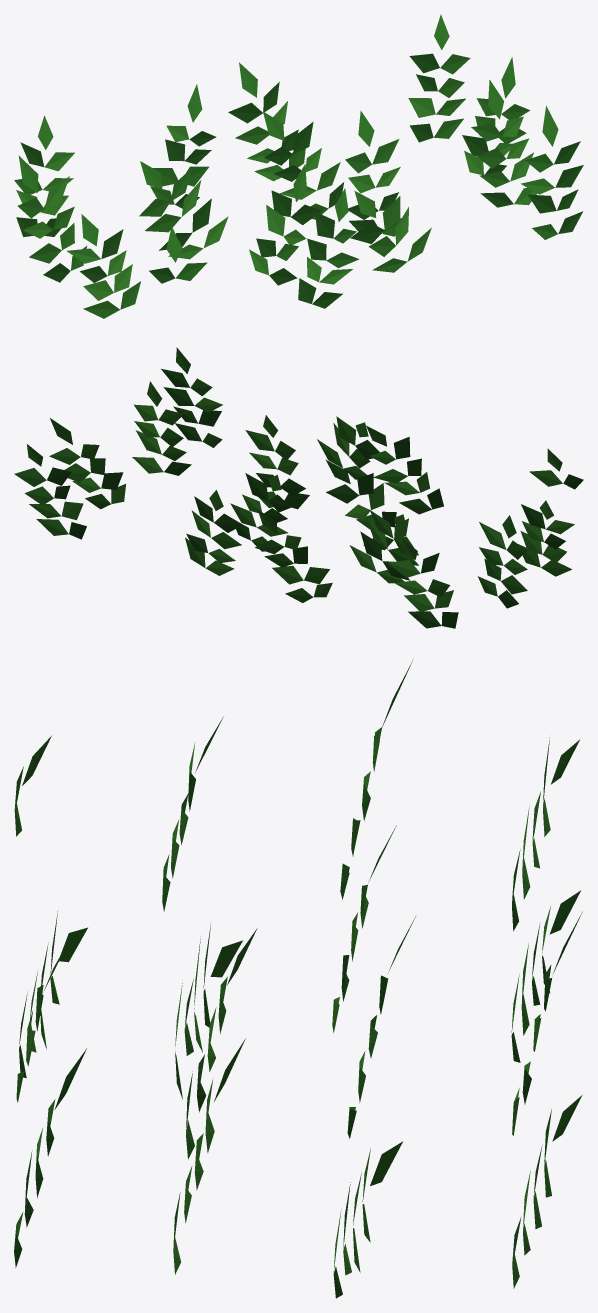
The picture shows the model from 3 angles, top to bottom: view 1: azimuth 30°, elevation 25°; view 2: azimuth 150°, elevation 25°; view 3: azimuth 270°, elevation 25°; orthographic projection. The views are drawn at different scales.
Visible parts, largest first — view 1: r16c3_l00; view 2: r16c3_l00; view 3: r16c3_l00.
Part boxes in pixels (x1,y1,x2,y2): r16c3_l00: (14,14,583,318); r16c3_l00: (14,347,583,628); r16c3_l00: (14,659,582,1298).
Bounding box in the file's own units: 2.21 × 0.5701 × 1.14.
